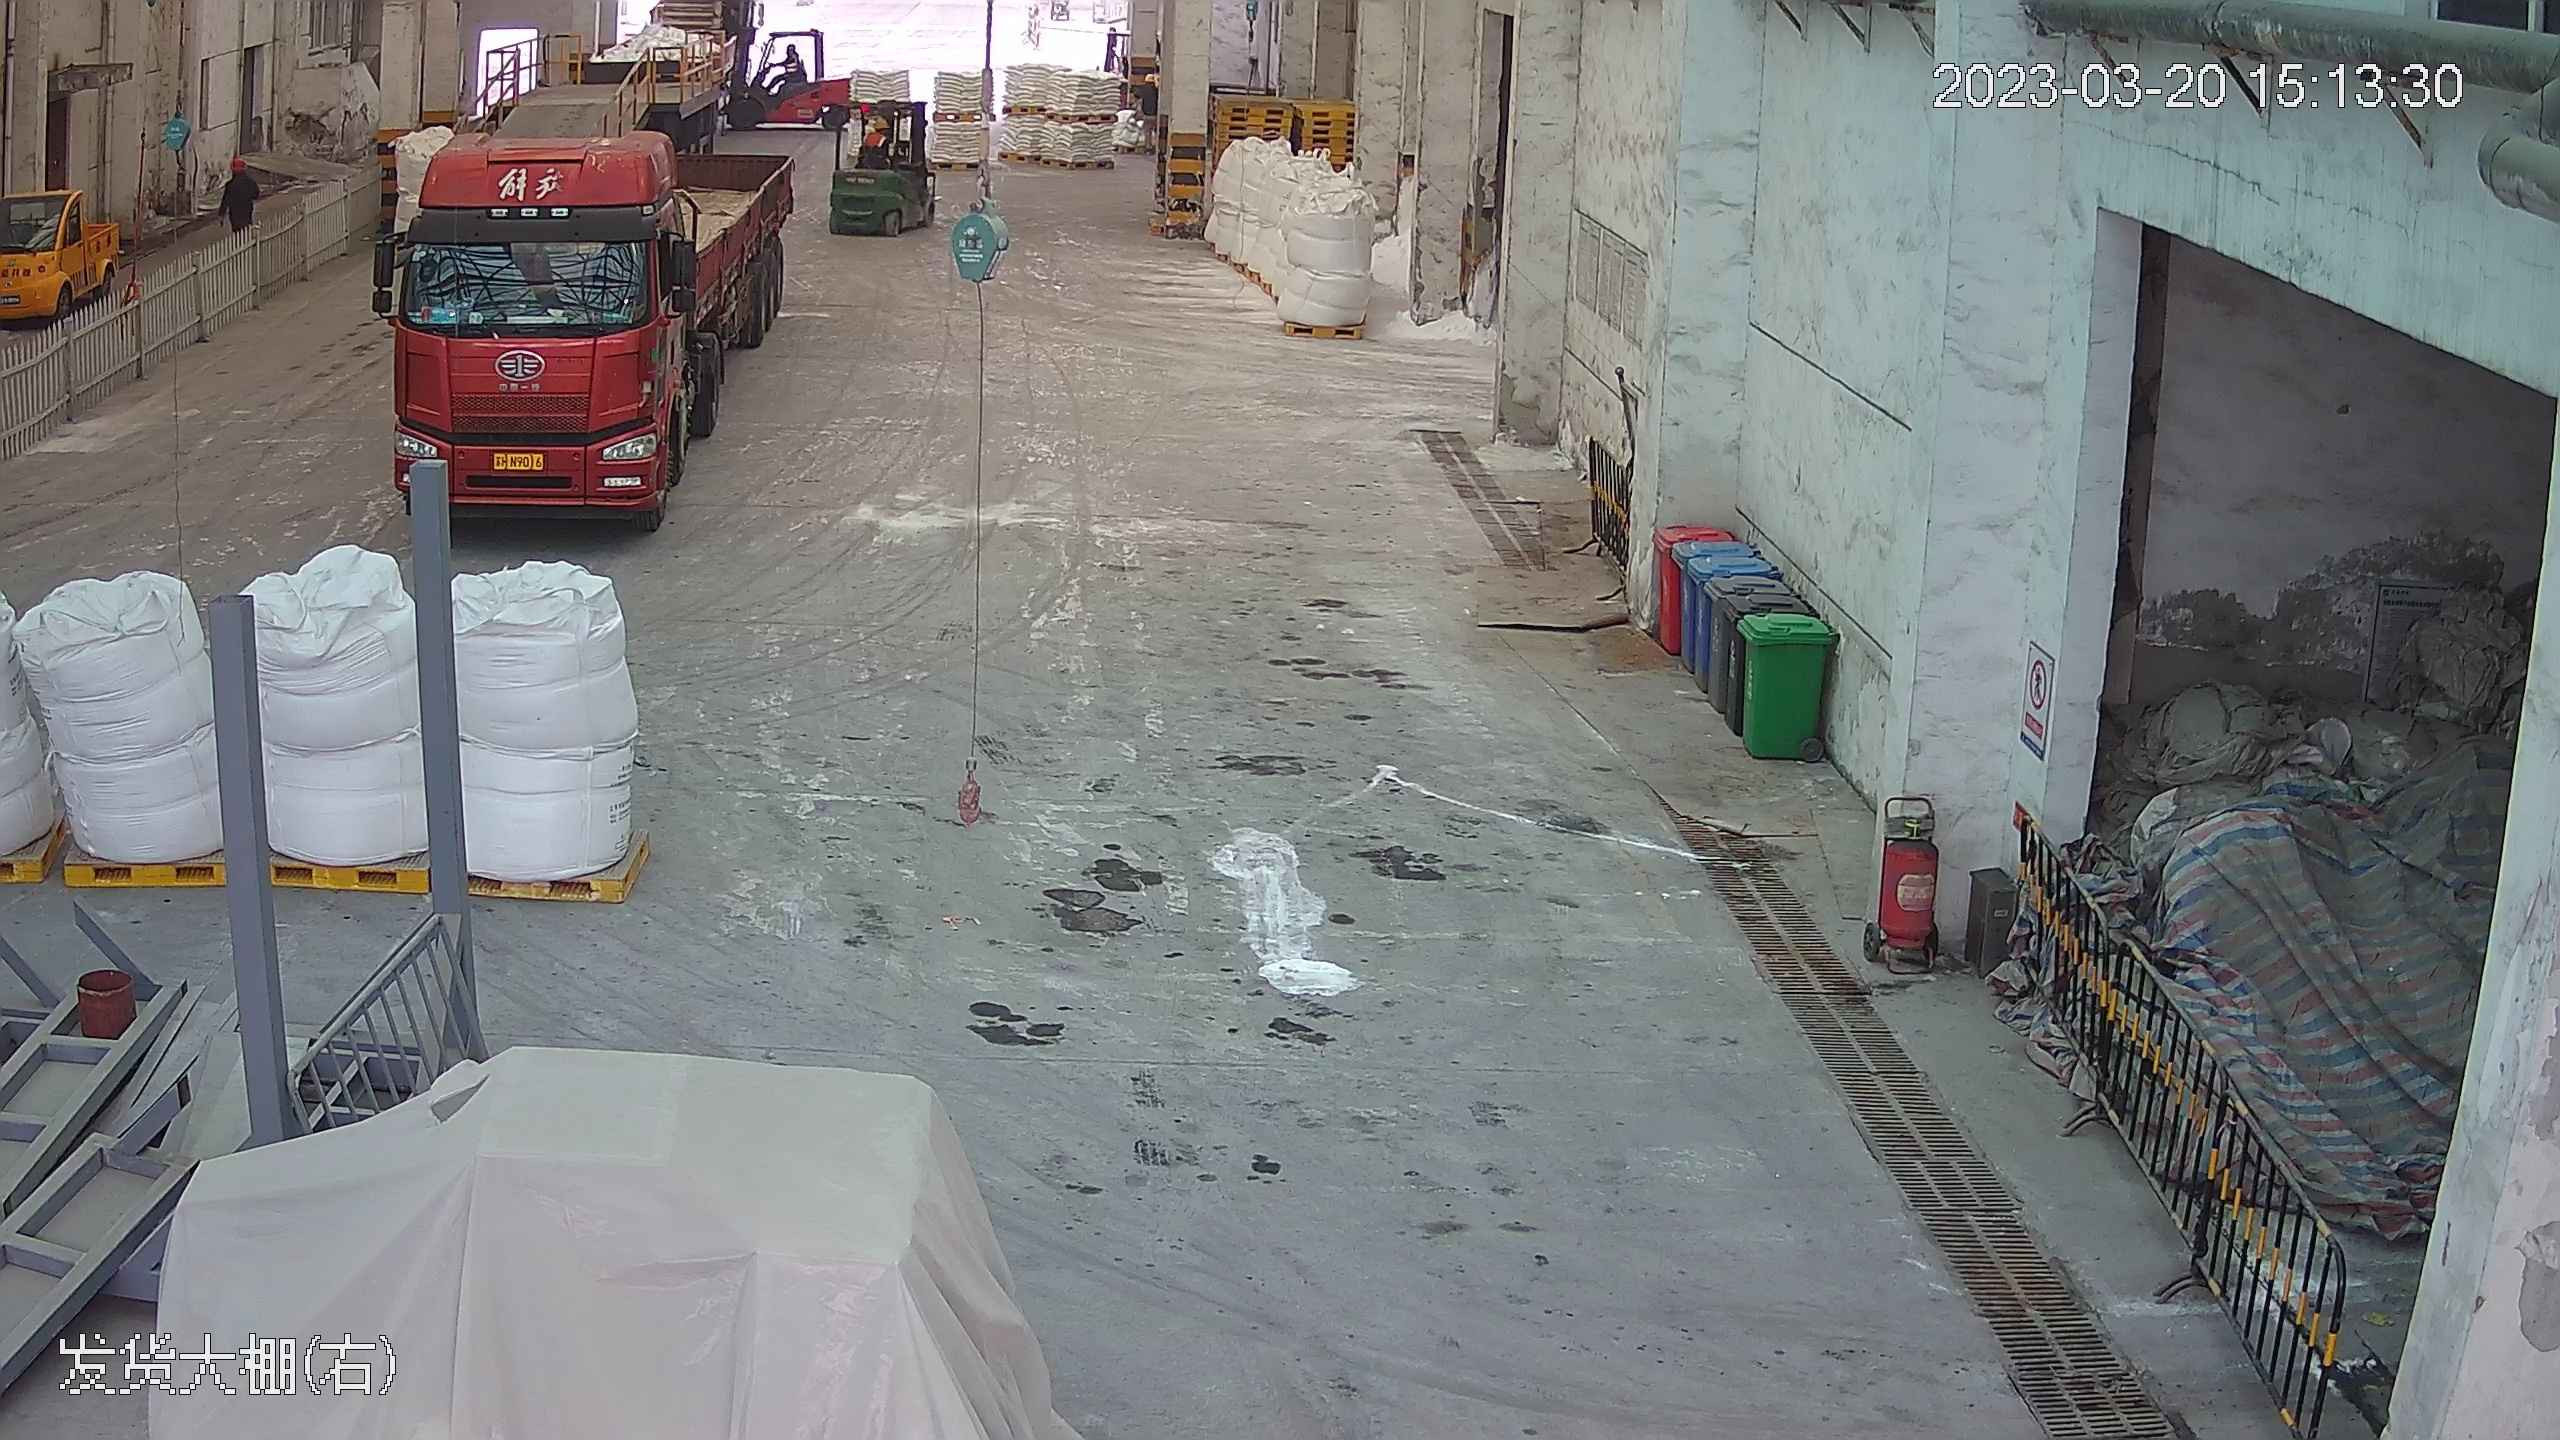head: (219, 155, 250, 186)
helmet: (228, 156, 247, 173)
people: (210, 149, 255, 229)
truck: (377, 75, 791, 521)
